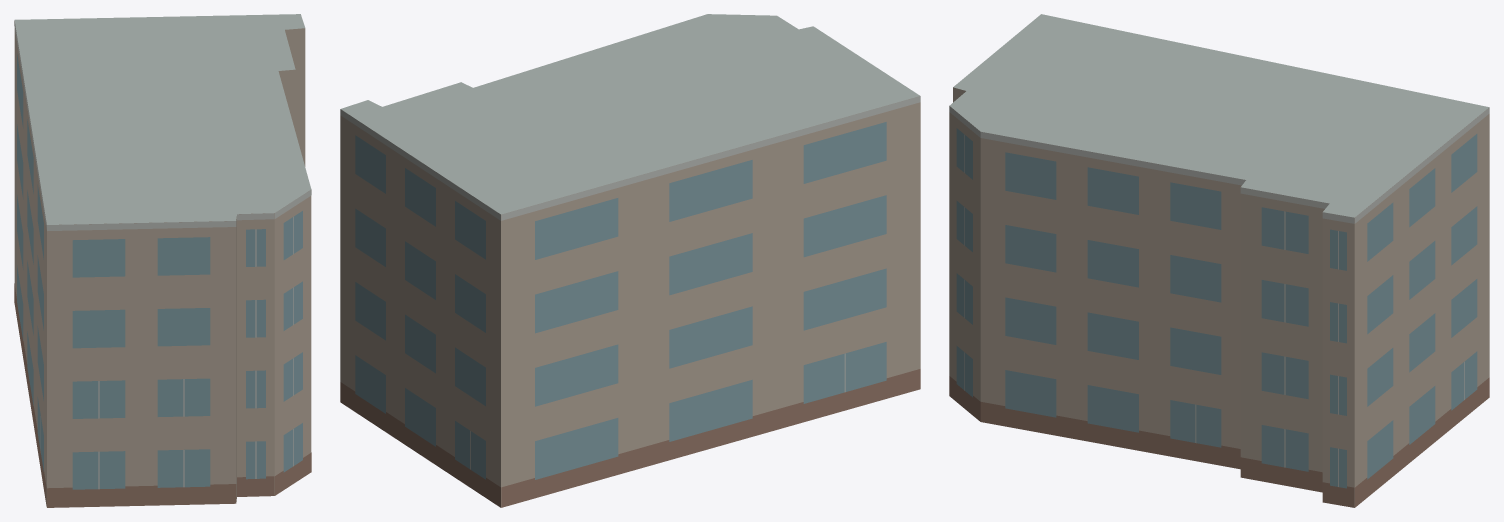
The model's file is survey-upis-32893090.glb.
3 views of the same model, side by side, from view 1: azimuth 30°, elevation 25°; view 2: azimuth 150°, elevation 25°; view 3: azimuth 270°, elevation 25° (orthographic). The views are drawn at different scales.
Visible parts, largest first — view 1: survey-upis-32893090.tmp; view 2: survey-upis-32893090.tmp; view 3: survey-upis-32893090.tmp.
Part boxes in pixels (box(x1,y1,x2,y2)): survey-upis-32893090.tmp: box(14, 14, 311, 507); survey-upis-32893090.tmp: box(340, 14, 920, 507); survey-upis-32893090.tmp: box(949, 14, 1489, 507).
Bounding box in the file's own units: 17.01 × 11.3 × 19.07.
